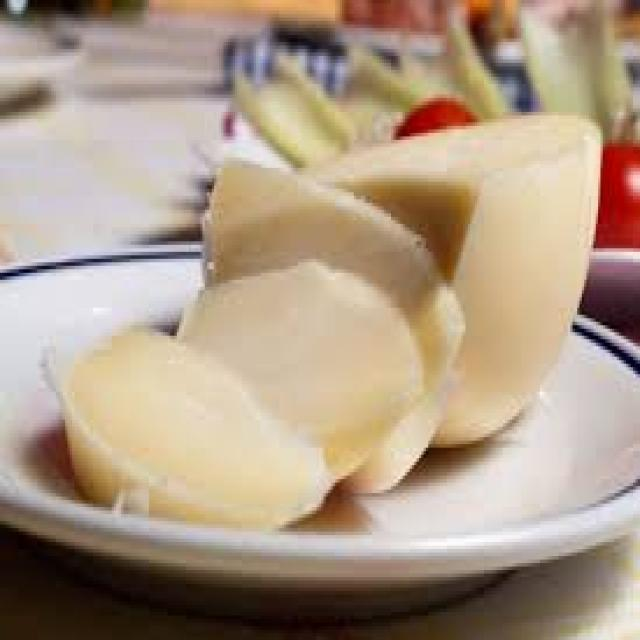cheese: (36, 152, 466, 532)
